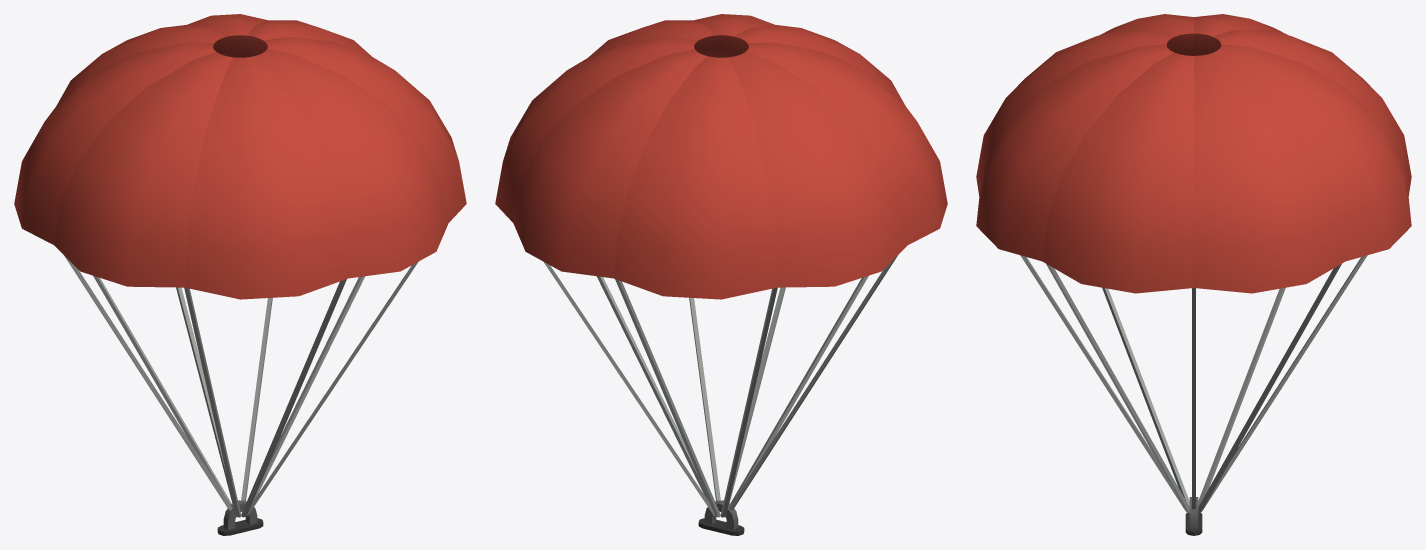
Rendered from parachute_1.fbx.
The picture shows the model from 3 angles, left to right: view 1: azimuth 30°, elevation 25°; view 2: azimuth 150°, elevation 25°; view 3: azimuth 270°, elevation 25°; orthographic projection.
Parts seen in each view (by area): view 1: parachute_1; view 2: parachute_1; view 3: parachute_1.
Part boxes in pixels (left/top/right/bottom): parachute_1: left=14, top=14, right=466, bottom=535; parachute_1: left=495, top=14, right=947, bottom=535; parachute_1: left=976, top=14, right=1411, bottom=535.
Size of the model in its own units: 1.03 by 1.03 by 1.26.
